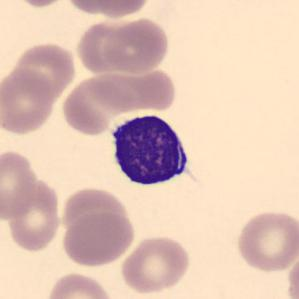Lymphocyte: (104, 107, 200, 193)
RBC: (58, 70, 134, 138), (3, 173, 63, 254), (118, 233, 193, 296), (59, 210, 137, 268), (8, 40, 79, 102), (234, 208, 298, 274), (73, 16, 142, 76), (57, 184, 132, 239), (0, 66, 57, 137), (103, 16, 171, 75), (114, 62, 177, 114), (0, 147, 40, 222), (43, 270, 116, 299), (67, 0, 155, 19), (286, 251, 298, 299), (8, 0, 73, 8)
